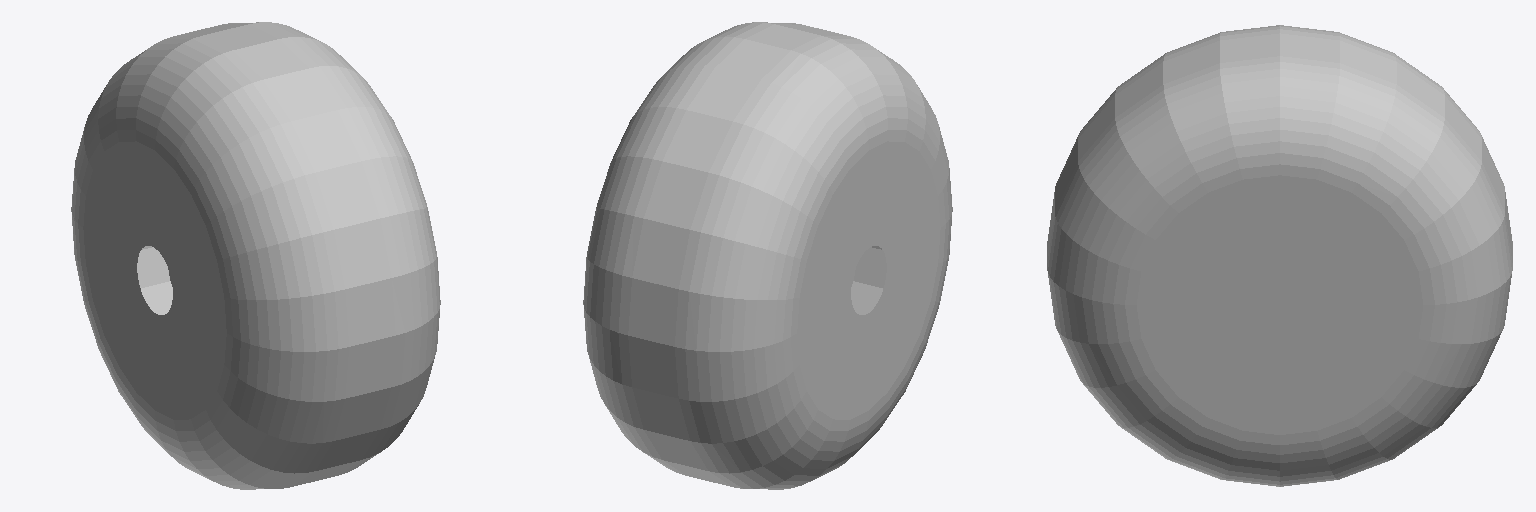
File: original-203.obj
3 views of the same model, side by side, from view 1: azimuth 30°, elevation 25°; view 2: azimuth 150°, elevation 25°; view 3: azimuth 270°, elevation 25° (orthographic).
Parts seen in each view (by area): view 1: #ID1252; view 2: #ID1252; view 3: #ID1252.
Boxes of the visible parts, <box> form: #ID1252: <box>71,22,440,489</box>; #ID1252: <box>583,22,952,489</box>; #ID1252: <box>1047,25,1512,486</box>.
Bounding box in the file's own units: 0.0196 × 0.0391 × 0.0391.